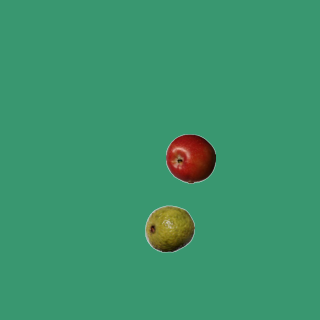Apple Braeburn: (165, 133, 215, 183)
Guava: (144, 203, 194, 253)
